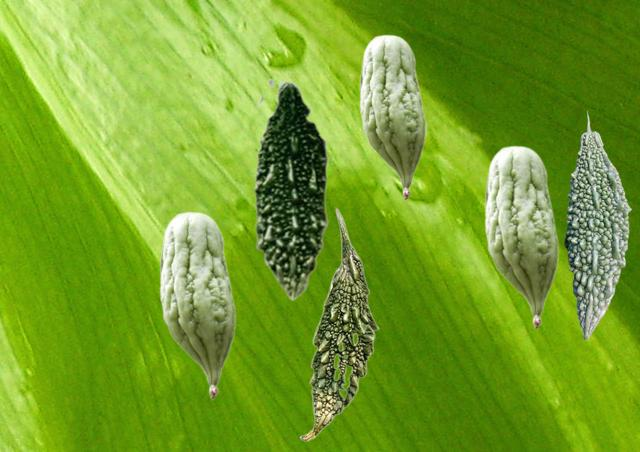ampalaya: (299, 207, 378, 440), (253, 77, 333, 301), (564, 111, 630, 339), (159, 211, 235, 398), (484, 145, 558, 328), (359, 34, 425, 199)
